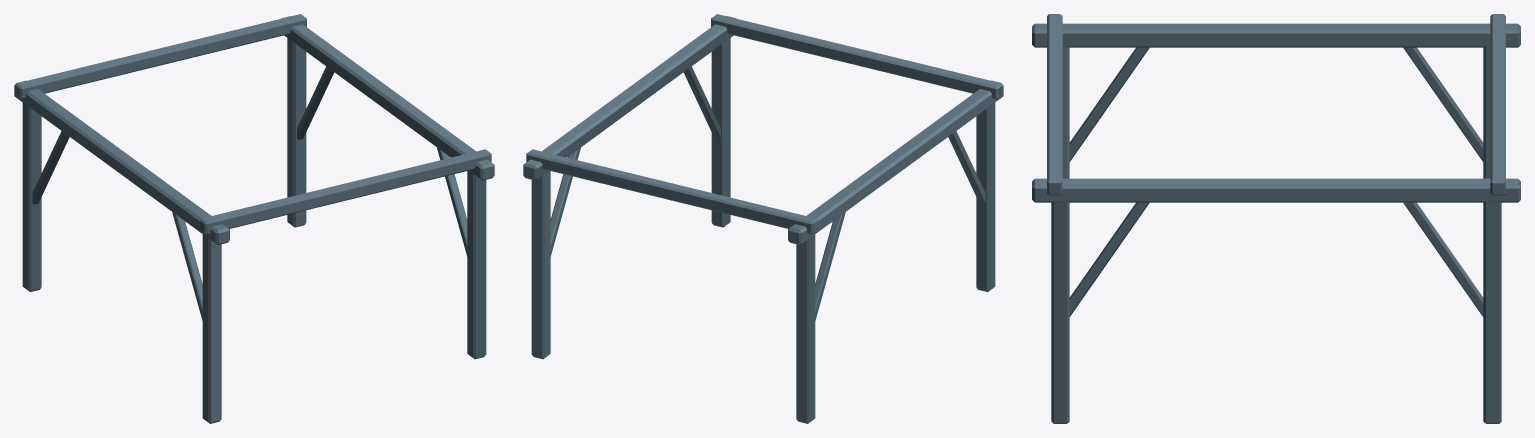
Rendered from EC_LadderRack.fbx.
3 renders of one model, left to right at view 1: azimuth 30°, elevation 25°; view 2: azimuth 150°, elevation 25°; view 3: azimuth 270°, elevation 25°, orthographic. The views are drawn at different scales.
Visible parts, largest first — view 1: EC_LadderRack; view 2: EC_LadderRack; view 3: EC_LadderRack.
Boxes of the visible parts, x1,y1,x2,y2 form: EC_LadderRack: [14, 14, 494, 423]; EC_LadderRack: [523, 14, 1003, 423]; EC_LadderRack: [1032, 14, 1520, 423].
Bounding box in the file's own units: 1.4 × 0.955 × 1.72.
